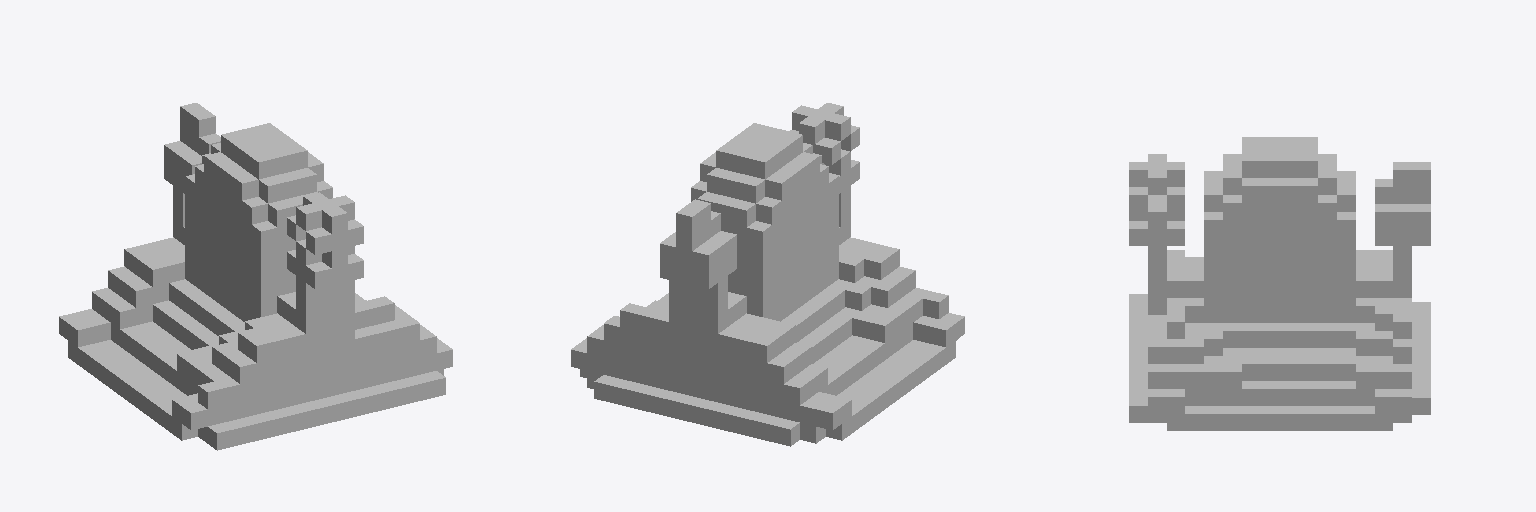
The model's file is kuiiji.obj.
3 views of the same model, side by side, from view 1: azimuth 30°, elevation 25°; view 2: azimuth 150°, elevation 25°; view 3: azimuth 270°, elevation 25° (orthographic).
Visible parts, largest first — view 1: kuiiji; view 2: kuiiji; view 3: kuiiji.
Part boxes in pixels (bbox=[...]): kuiiji: bbox=[59, 103, 452, 450]; kuiiji: bbox=[571, 103, 964, 446]; kuiiji: bbox=[1129, 137, 1430, 430].
Bounding box in the file's own units: 1 × 0.8125 × 1.